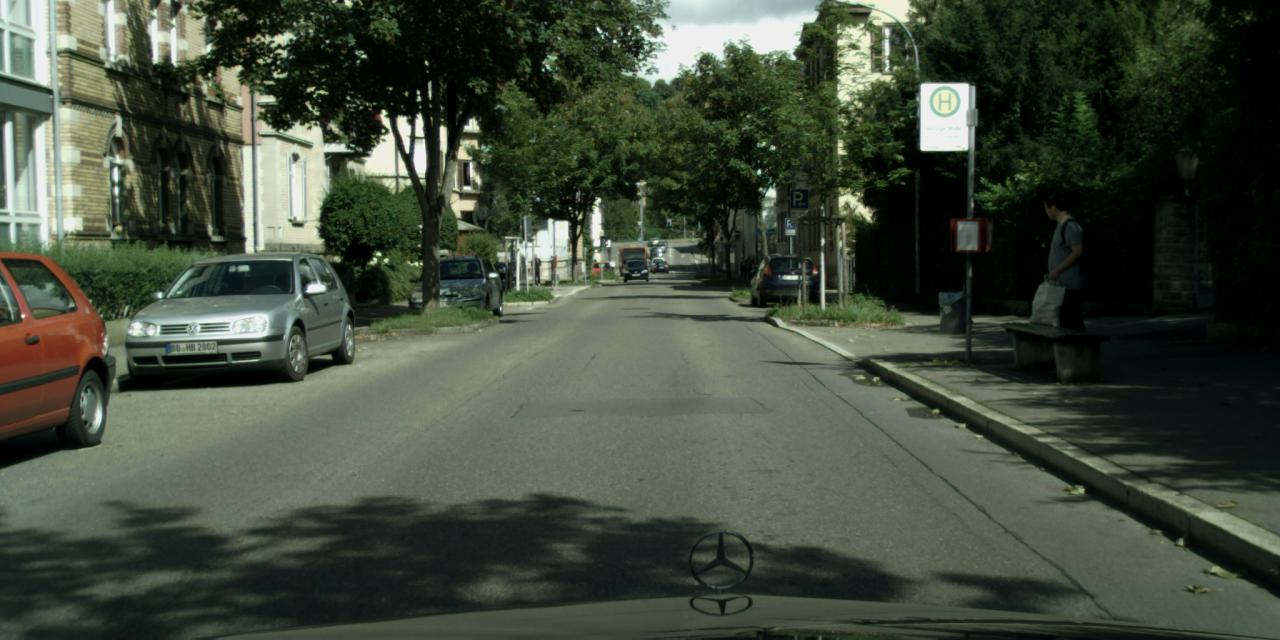ped: (1027, 190, 1095, 356), (528, 252, 541, 286), (744, 253, 754, 278), (738, 257, 746, 278)
